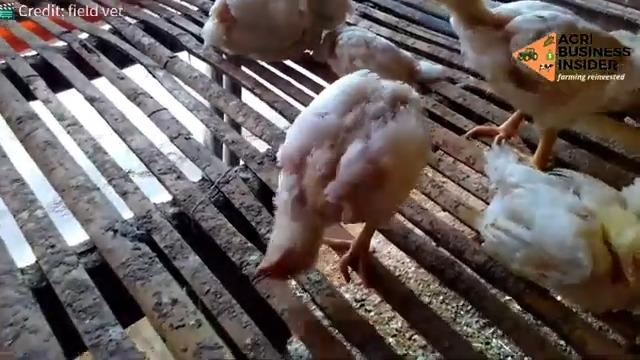AbNormal: (259, 70, 432, 276)
